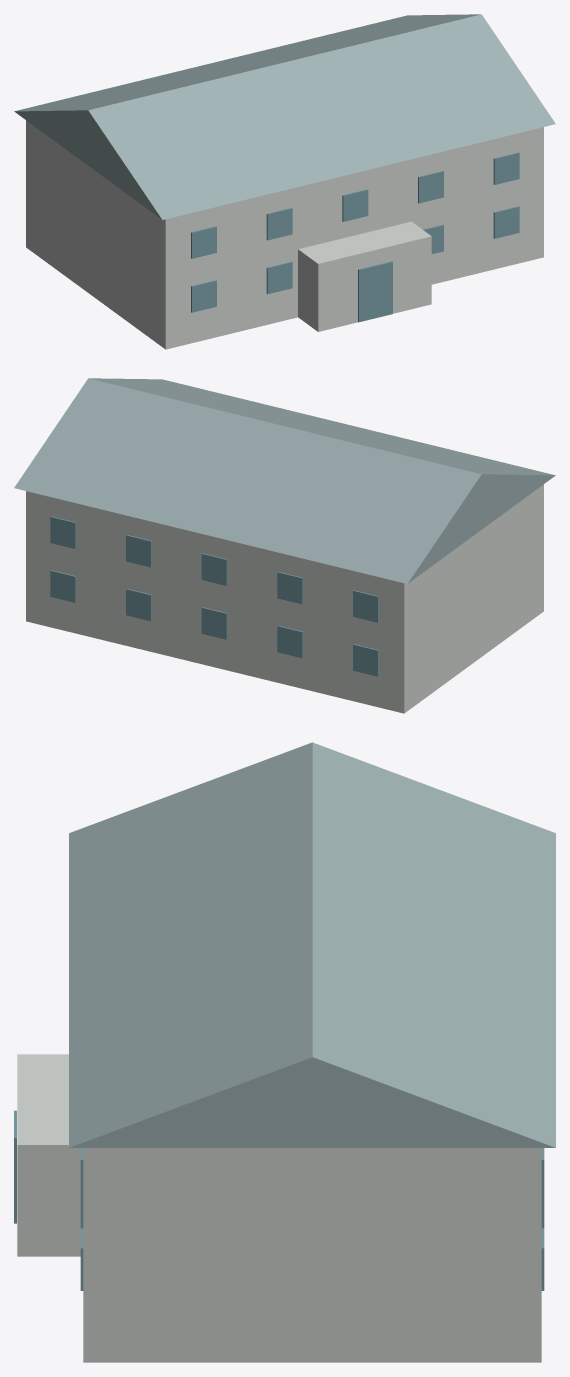
The model's file is foxleigh_massing.glb.
The picture shows the model from 3 angles, top to bottom: view 1: azimuth 30°, elevation 25°; view 2: azimuth 150°, elevation 25°; view 3: azimuth 270°, elevation 25°; orthographic projection. The views are drawn at different scales.
Parts seen in each view (by area): view 1: FOXLEIGH_SCHEMATIC_NOT_HISTORICAL; view 2: FOXLEIGH_SCHEMATIC_NOT_HISTORICAL; view 3: FOXLEIGH_SCHEMATIC_NOT_HISTORICAL.
Boxes of the visible parts, x1,y1,x2,y2 form: FOXLEIGH_SCHEMATIC_NOT_HISTORICAL: (14, 14, 555, 349); FOXLEIGH_SCHEMATIC_NOT_HISTORICAL: (14, 378, 555, 713); FOXLEIGH_SCHEMATIC_NOT_HISTORICAL: (14, 742, 555, 1362).
Size of the model in its own units: 26 by 12 by 18.92.
